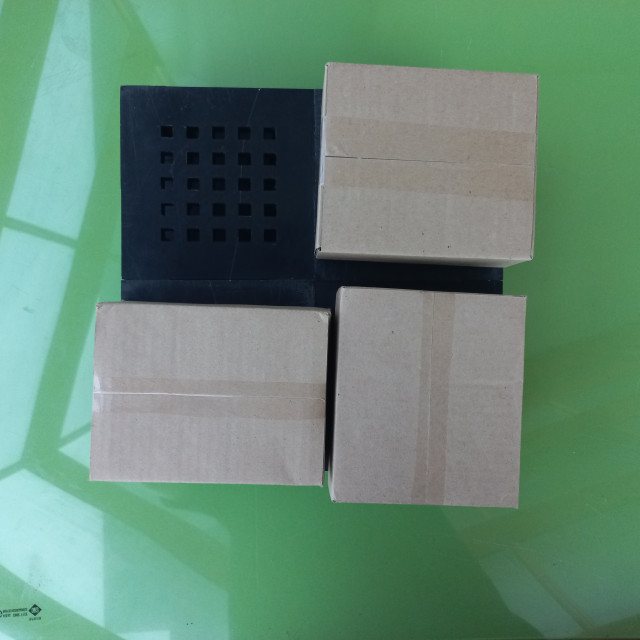box: (313, 57, 543, 269), (88, 297, 332, 489), (328, 286, 528, 512), (154, 370, 323, 580), (310, 152, 496, 341), (165, 130, 312, 359)
